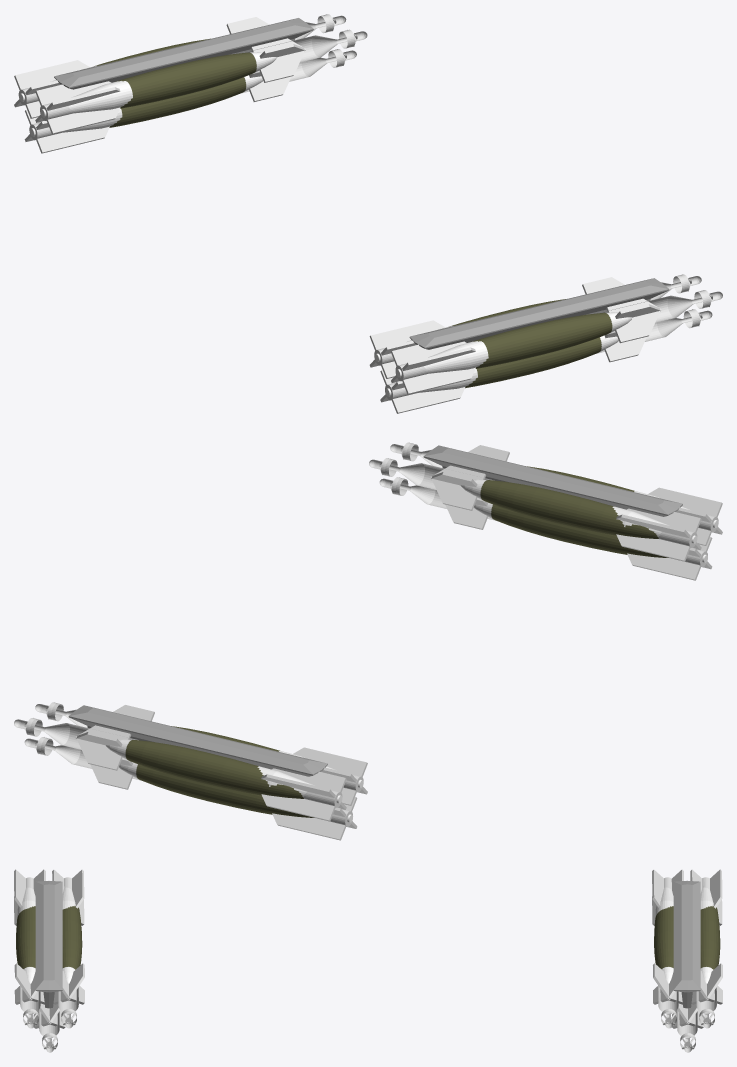
Rendered from f16gbu1214.glb.
3 renders of one model, top to bottom at view 1: azimuth 30°, elevation 25°; view 2: azimuth 150°, elevation 25°; view 3: azimuth 270°, elevation 25°, orthographic. The views are drawn at different scales.
Visible parts, largest first — view 1: 円柱.021, 円柱.005, 円柱.007, 円柱.002, 立方体.001, 立方体.002, 円柱.001, 円柱.006; view 2: 円柱.001, 円柱.006, 円柱.007, 円柱.002, 立方体.002, 立方体.001, 円柱.021, 円柱.005; view 3: 円柱.006, 円柱.001, 立方体.001, 立方体.002, 円柱.021, 円柱.005, 円柱.002, 円柱.007.
Part boxes in pixels (x1,y1,x2,y2): 円柱.021: [391, 290, 722, 394]; 円柱.005: [35, 29, 367, 134]; 円柱.007: [24, 49, 356, 153]; 円柱.002: [380, 309, 712, 413]; 立方体.001: [54, 18, 313, 89]; 立方体.002: [409, 278, 669, 349]; 円柱.001: [369, 274, 701, 378]; 円柱.006: [14, 14, 346, 118]; 円柱.001: [369, 458, 701, 561]; 円柱.006: [14, 718, 346, 821]; 円柱.007: [24, 737, 357, 840]; 円柱.002: [379, 477, 712, 580]; 立方体.002: [423, 445, 682, 516]; 立方体.001: [68, 705, 327, 776]; 円柱.021: [390, 442, 722, 545]; 円柱.005: [35, 702, 367, 805]; 円柱.006: [690, 869, 722, 1028]; 円柱.001: [52, 869, 84, 1028]; 立方体.001: [673, 880, 700, 1008]; 立方体.002: [35, 881, 62, 1008]; 円柱.021: [14, 869, 45, 1028]; 円柱.005: [652, 869, 683, 1028]; 円柱.002: [33, 1003, 65, 1052]; 円柱.007: [672, 1003, 703, 1052].
Size of the model in its own units: 3.82 by 0.7094 by 8.04.
4 materials, 1 textured.
